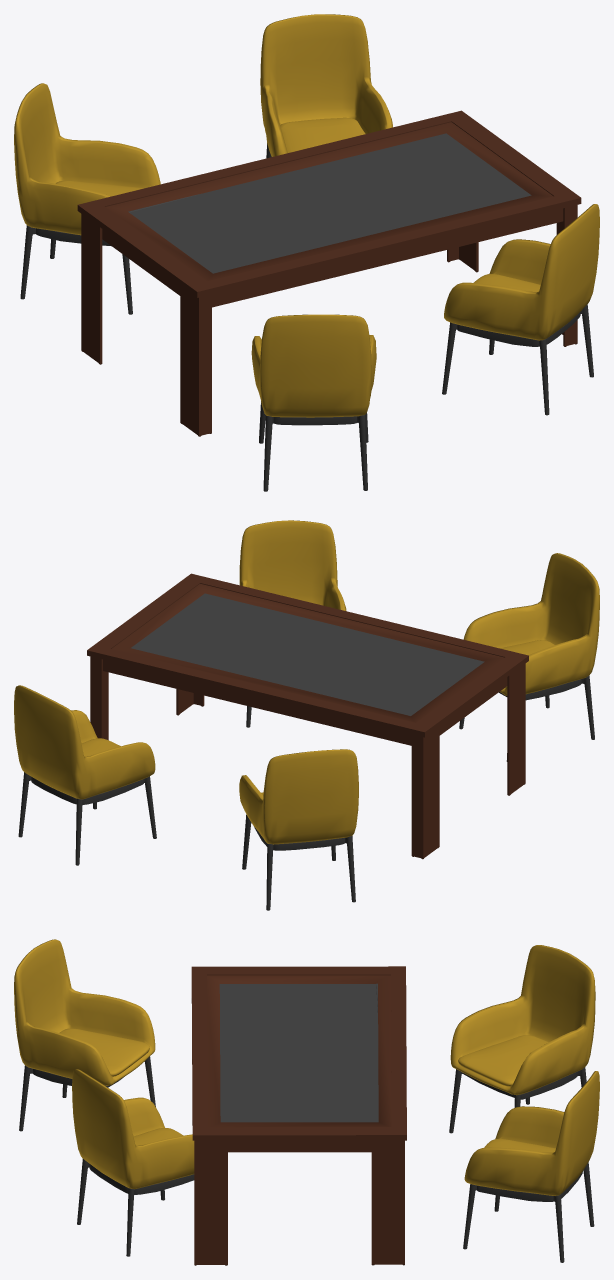
The model's file is 10 - Archivo Digitale.glb.
The picture shows the model from 3 angles, top to bottom: view 1: azimuth 30°, elevation 25°; view 2: azimuth 150°, elevation 25°; view 3: azimuth 270°, elevation 25°; orthographic projection. The views are drawn at different scales.
Visible parts, largest first — view 1: 10 - archivio digitale; view 2: 10 - archivio digitale; view 3: 10 - archivio digitale.
Part boxes in pixels (box(x1,y1,x2,y2)): 10 - archivio digitale: box(14, 14, 599, 491); 10 - archivio digitale: box(14, 520, 599, 910); 10 - archivio digitale: box(14, 939, 599, 1265).
Size of the model in its own units: 1.68 by 0.7384 by 2.41.
